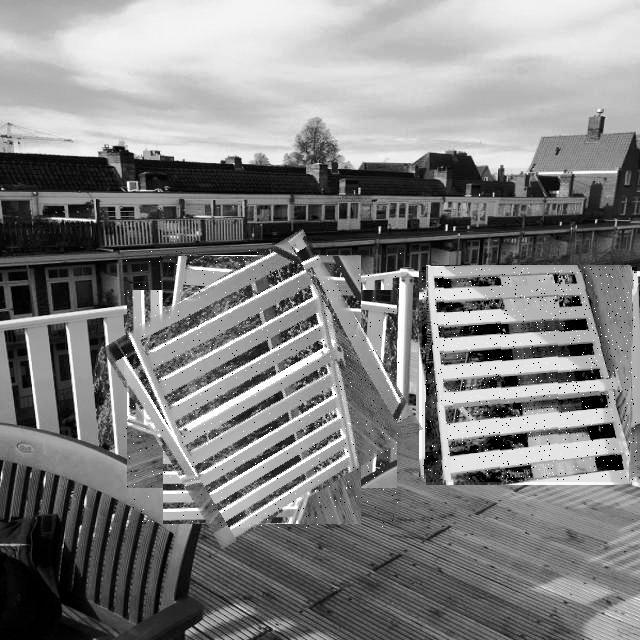fences: (124, 250, 401, 528), (422, 267, 637, 482)
